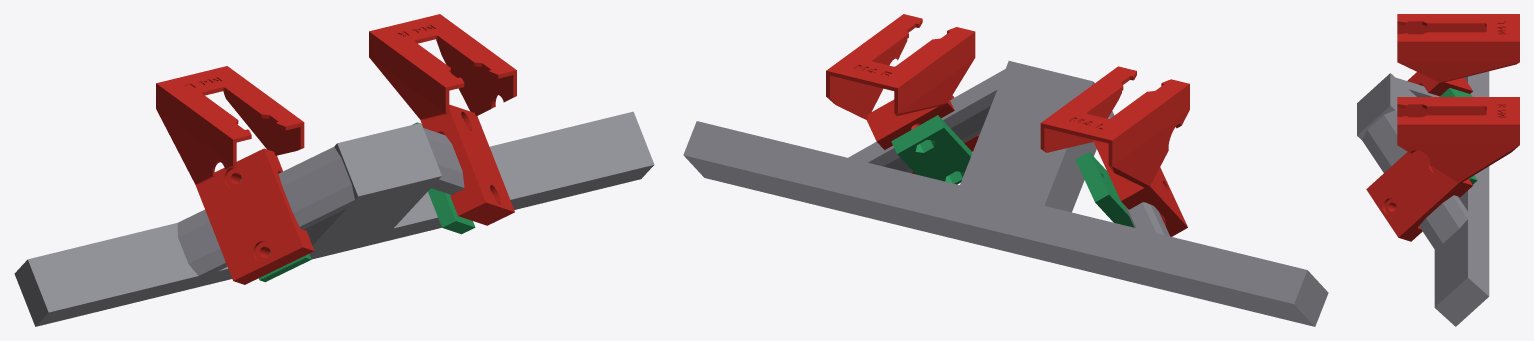
Rendered from assembly_m4.obj.
The picture shows the model from 3 angles, left to right: view 1: azimuth 30°, elevation 25°; view 2: azimuth 150°, elevation 25°; view 3: azimuth 270°, elevation 25°; orthographic projection. The views are drawn at different scales.
Visible parts, largest first — view 1: hanger_schematic, left_saddle, right_saddle, right_keeper; view 2: hanger_schematic, left_saddle, right_saddle, right_keeper, left_keeper; view 3: right_saddle, hanger_schematic, left_saddle, left_keeper.
Part boxes in pixels (bbox=[...]): hanger_schematic: bbox=[14, 111, 654, 326]; left_saddle: bbox=[156, 66, 314, 284]; right_saddle: bbox=[369, 14, 516, 225]; right_keeper: bbox=[412, 122, 475, 234]; hanger_schematic: bbox=[683, 61, 1328, 326]; left_saddle: bbox=[1040, 66, 1189, 236]; right_saddle: bbox=[826, 14, 979, 174]; right_keeper: bbox=[891, 115, 972, 184]; left_keeper: bbox=[1075, 152, 1134, 227]; right_saddle: bbox=[1366, 97, 1519, 241]; hanger_schematic: bbox=[1357, 71, 1489, 326]; left_saddle: bbox=[1397, 14, 1519, 96]; left_keeper: bbox=[1440, 88, 1472, 96].
Size of the model in its own units: 260 by 71.77 by 75.83.
